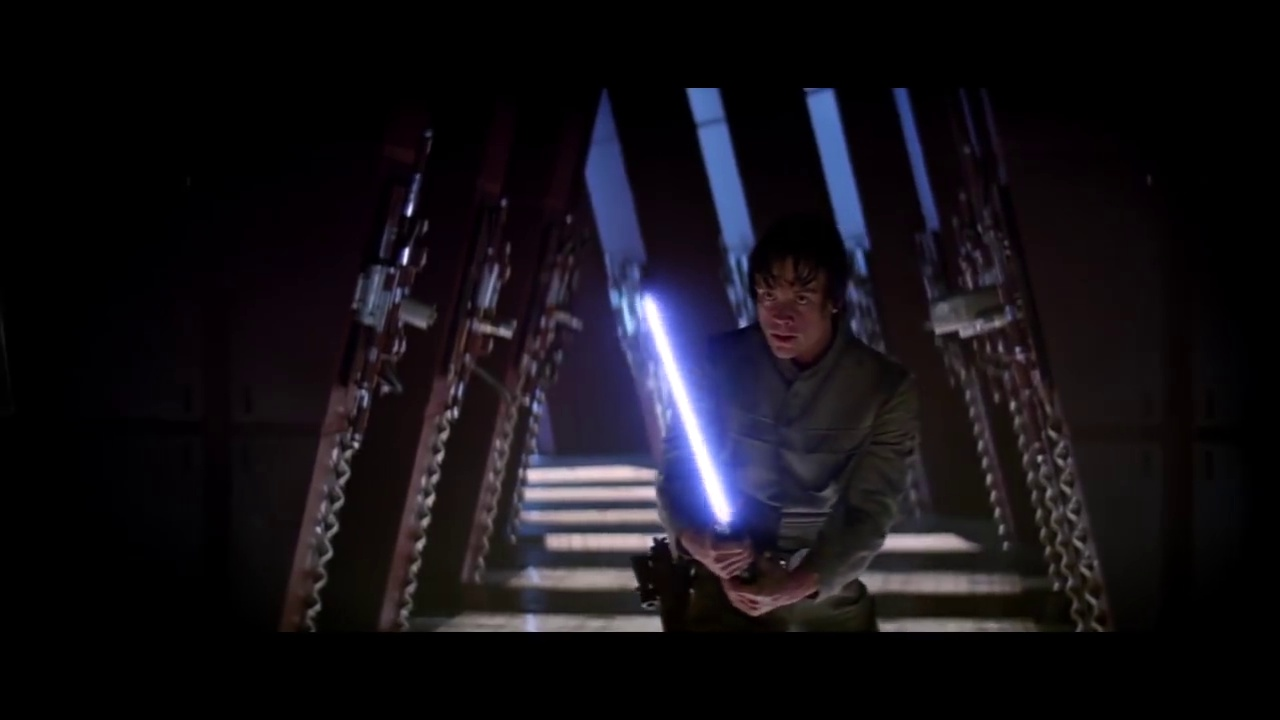lightsaber: (606, 281, 759, 570)
